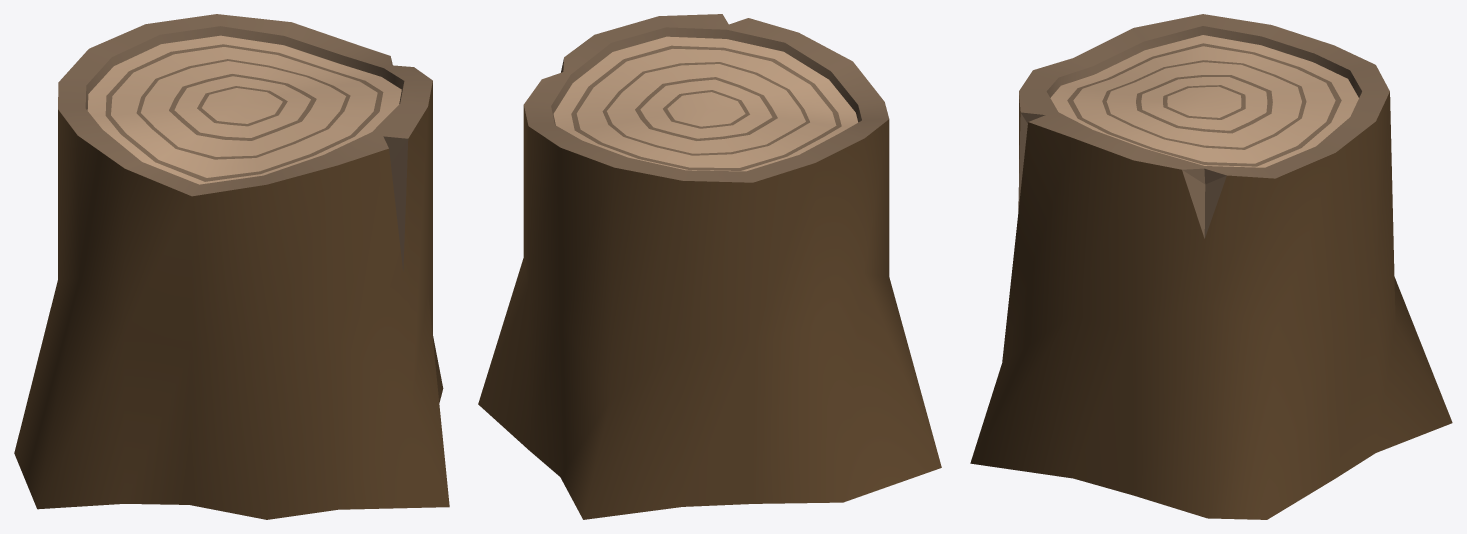
The model's file is tree_stump.fbx.
3 renders of one model, left to right at view 1: azimuth 30°, elevation 25°; view 2: azimuth 150°, elevation 25°; view 3: azimuth 270°, elevation 25°, orthographic. The views are drawn at different scales.
Parts seen in each view (by area): view 1: tree_stump; view 2: tree_stump; view 3: tree_stump.
Boxes of the visible parts, x1,y1,x2,y2 form: tree_stump: (14, 14, 449, 519); tree_stump: (478, 14, 941, 519); tree_stump: (970, 14, 1452, 519).
Bounding box in the file's own units: 64.62 × 50.59 × 64.99.
